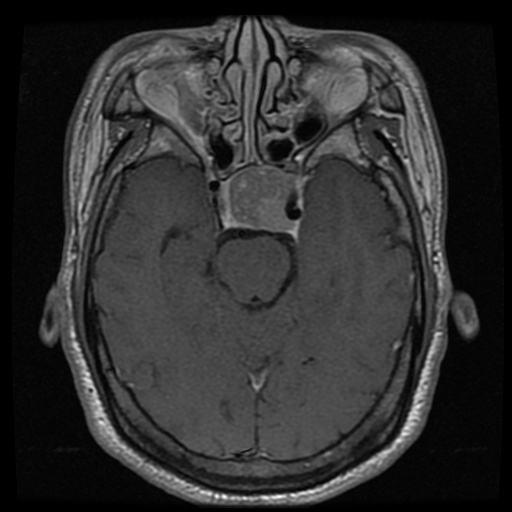pituitary: (221, 168, 292, 231)
